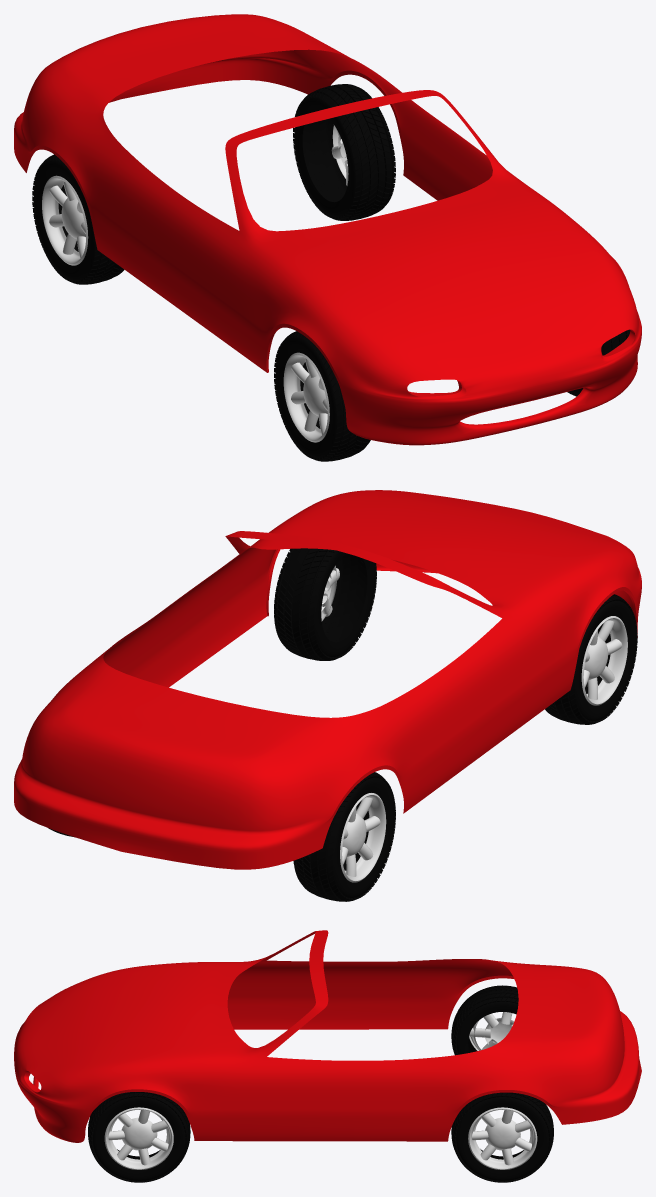
File: Miata.fbx
The picture shows the model from 3 angles, top to bottom: view 1: azimuth 30°, elevation 25°; view 2: azimuth 150°, elevation 25°; view 3: azimuth 270°, elevation 25°; orthographic projection. The views are drawn at different scales.
Visible parts, largest first — view 1: Miata, Tire, Treads, Spokes; view 2: Miata, Tire, Treads, Spokes; view 3: Miata, Tire, Treads, Spokes.
Part boxes in pixels (x1,y1,x2,y2): Miata: (14,14,641,445); Tire: (33,94,629,457); Treads: (32,84,630,461); Spokes: (49,125,348,435); Miata: (14,490,641,869); Tire: (279,548,635,897); Treads: (48,548,637,901); Spokes: (321,568,622,876); Miata: (14,930,641,1142); Tire: (93,997,551,1180); Treads: (88,985,553,1182); Spokes: (108,1012,531,1165).
Size of the model in its own units: 176 by 407 by 122.
